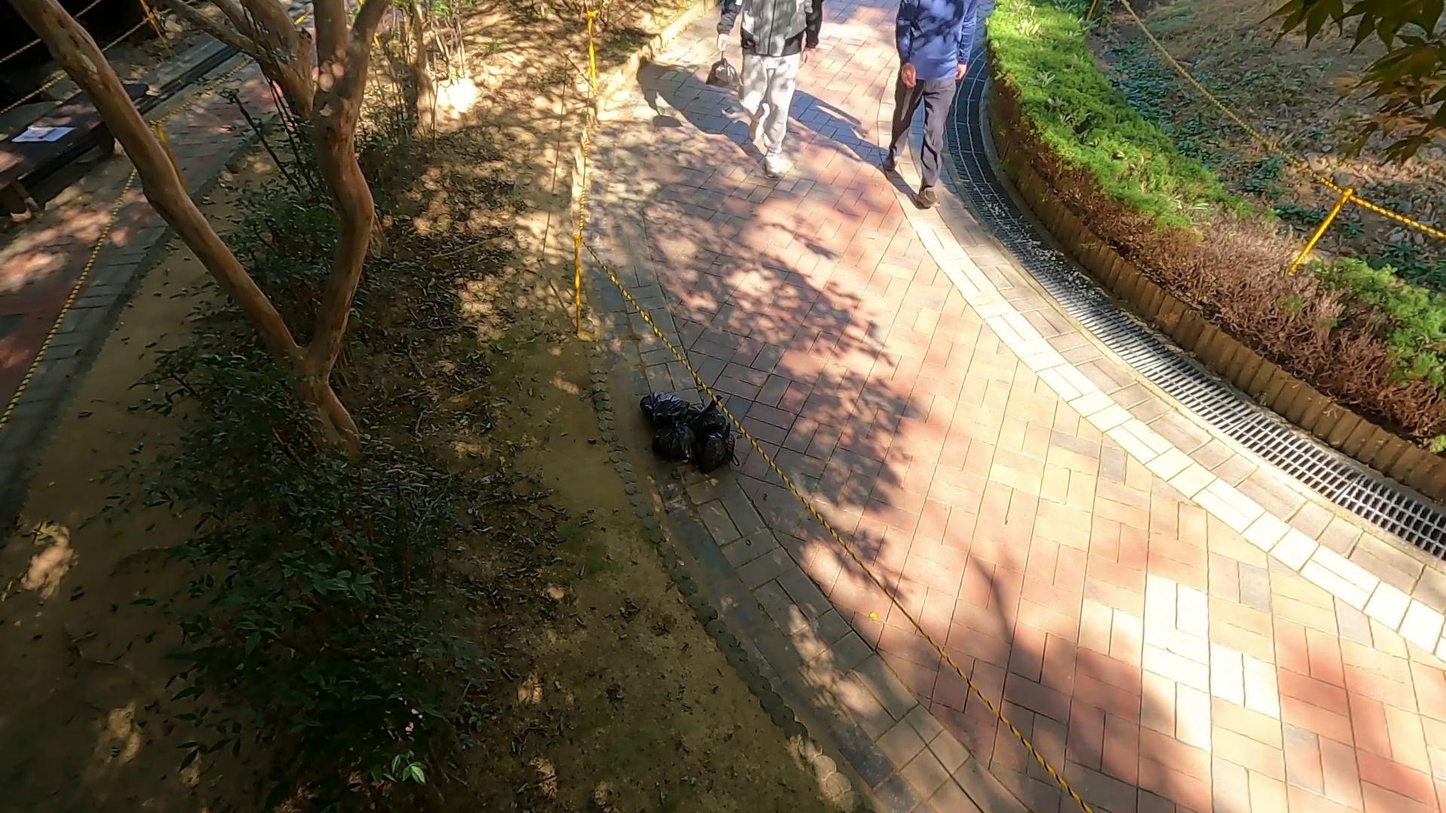person: (881, 1, 978, 211), (716, 0, 825, 181)
trash: (690, 421, 742, 477), (646, 416, 696, 465), (638, 389, 690, 428), (705, 47, 741, 91), (689, 393, 729, 427)
